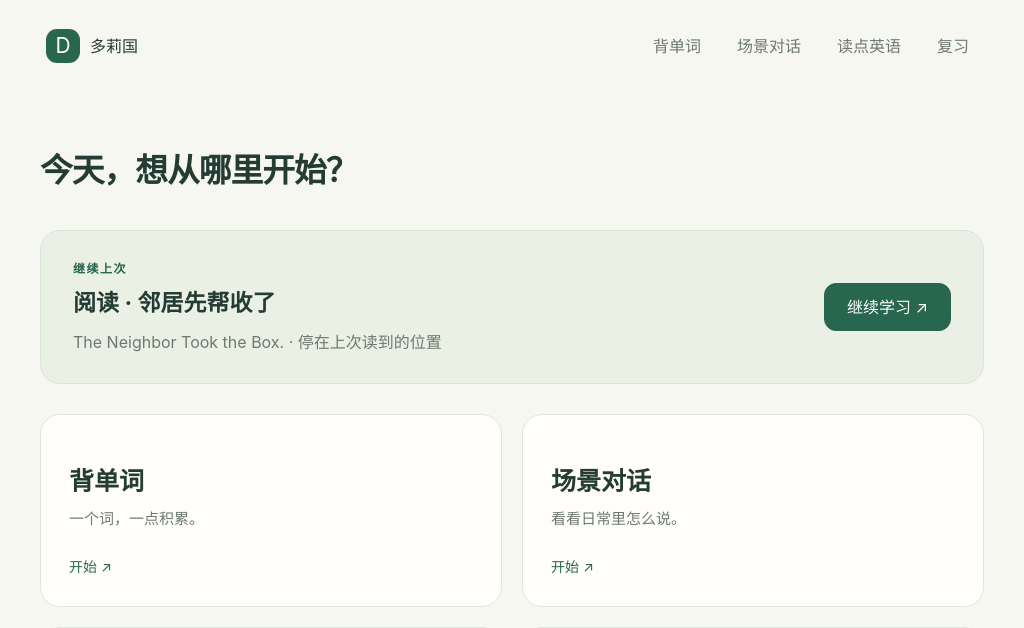
Test: opens later incremental reading reading-neighbor-kept-the-box from home resume
Click the button "继续学习 ↗" at (888, 307), box [824,283,951,332]
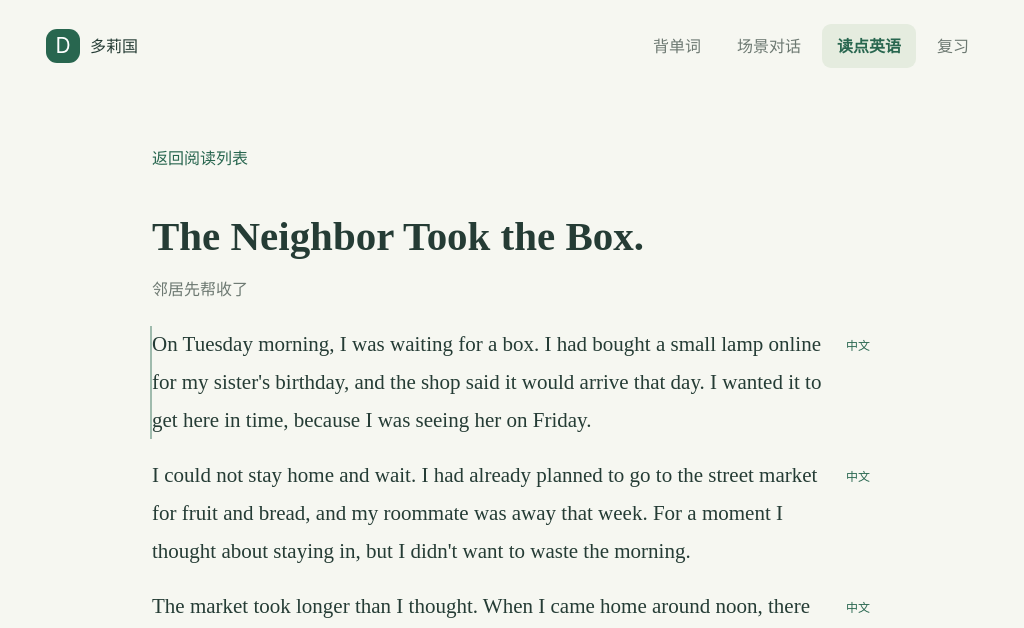
Now the heading "The Neighbor Took the Box." is shown, box [152,213,644,259]
